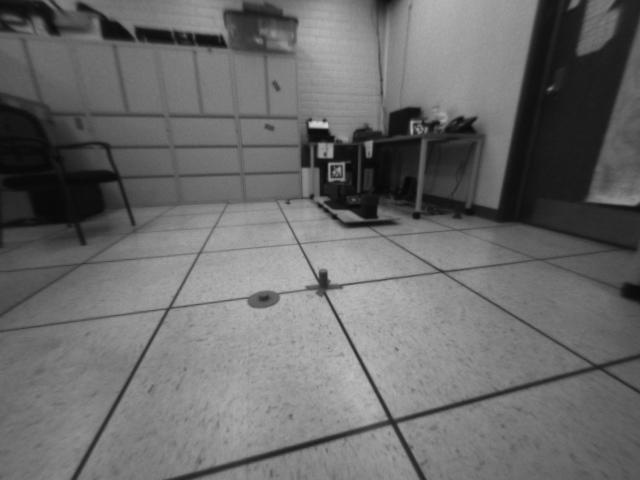X: (304, 267, 344, 297)
